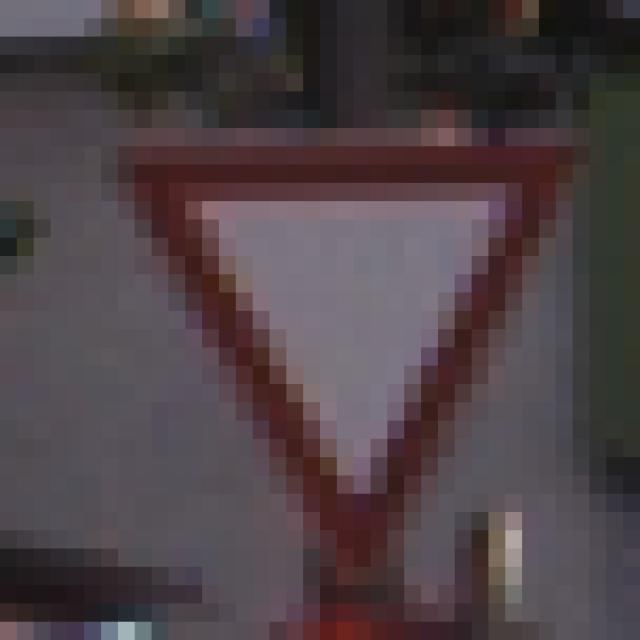Give Way: (102, 111, 557, 550)
